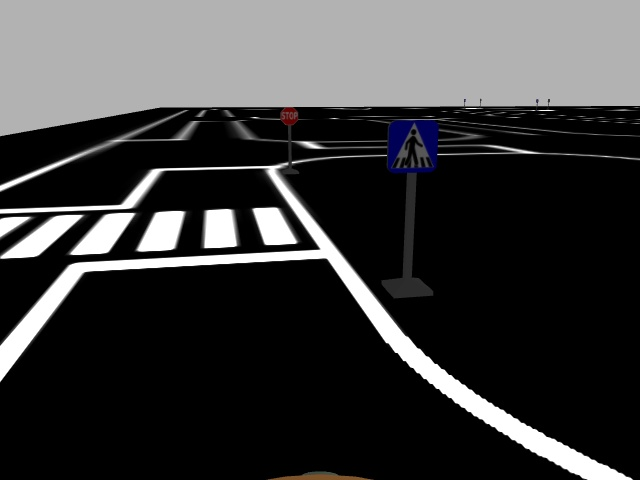crosswalk: (386, 117, 439, 176)
stop: (277, 106, 301, 127)
